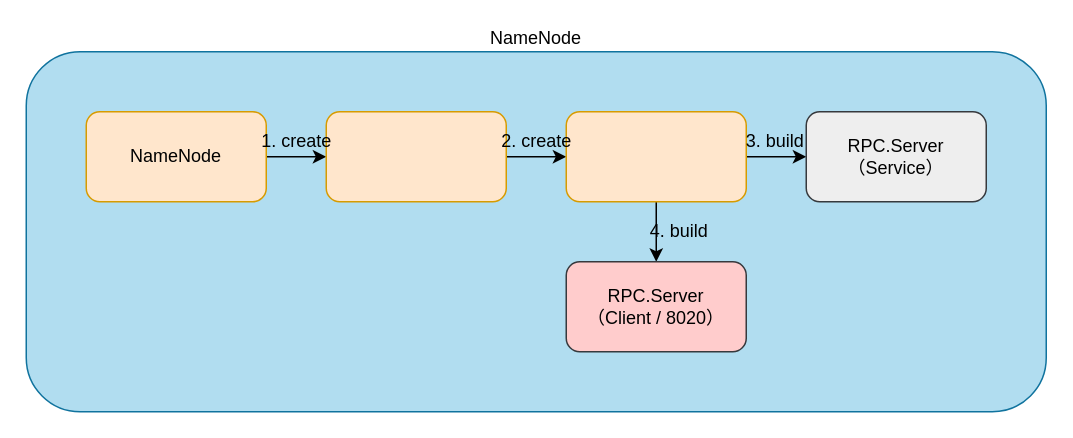
Some shapes in this 1073 by 438 pixel diagram are drawn without their labels. The shapes that lost their labels are listed below. From the top down, each one's centre as x and y in pixels, then its label:
the point at 415,156: NameNodeRpcServer
the point at 655,156: RPC.Builder
